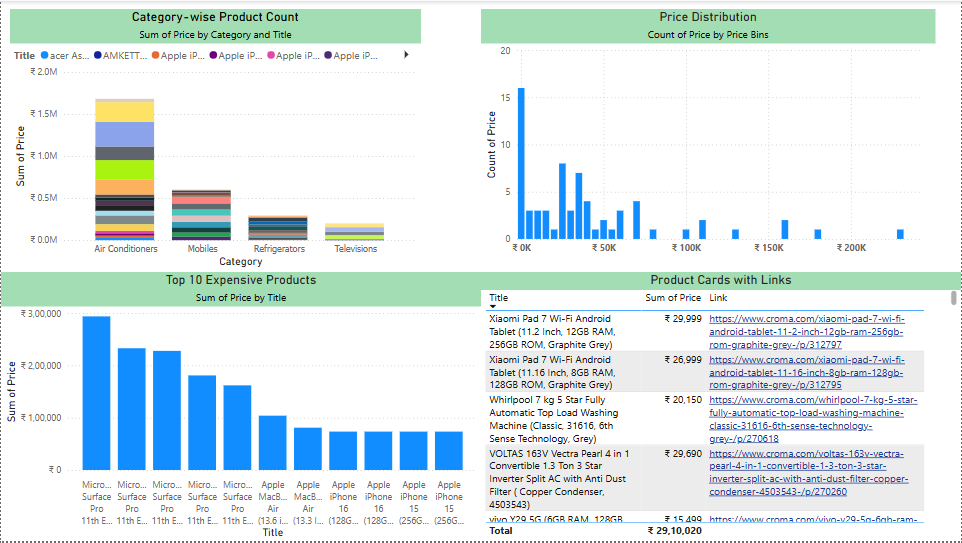

What the dashboard file says about the page in this screenshot:
{"tool":"powerbi","page":{"name":"Page 1","canvas":[1280,720],"ordinal":0},"visuals":[{"type":"columnChart","title":"Category-wise Product Count","fields":{"Y":["Sum(croma_cleaned_products.Price)"],"Category":["croma_cleaned_products.Category"],"Series":["croma_cleaned_products.Title"]},"box":[12.4,11,547.8,349.6],"z":0},{"type":"clusteredColumnChart","title":"Price Distribution","fields":{"Category":["croma_cleaned_products.Price Bins"],"Y":["CountNonNull(croma_cleaned_products.Price)"]},"box":[640,11,605.6,349.6],"z":1},{"type":"clusteredColumnChart","title":"Top 10 Expensive Products","fields":{"Category":["croma_cleaned_products.Title"],"Y":["Sum(croma_cleaned_products.Price)"]},"box":[0,361.7,640,360],"z":2},{"type":"tableEx","title":"Product Cards with Links","fields":{"Values":["croma_cleaned_products.Title","Sum(croma_cleaned_products.Price)","croma_cleaned_products.Link"]},"box":[640,361.7,640,358.3],"z":3}]}

Visuals, with their boxes in screenshot pixels (x1, y1, x2, y2), scaled from the page's 1280x720 canvas onto the 962x543 screenshot:
"Category-wise Product Count" columnChart: detection(9, 8, 421, 272)
"Price Distribution" clusteredColumnChart: detection(481, 8, 936, 272)
"Top 10 Expensive Products" clusteredColumnChart: detection(0, 273, 481, 542)
"Product Cards with Links" tableEx: detection(481, 273, 961, 542)
